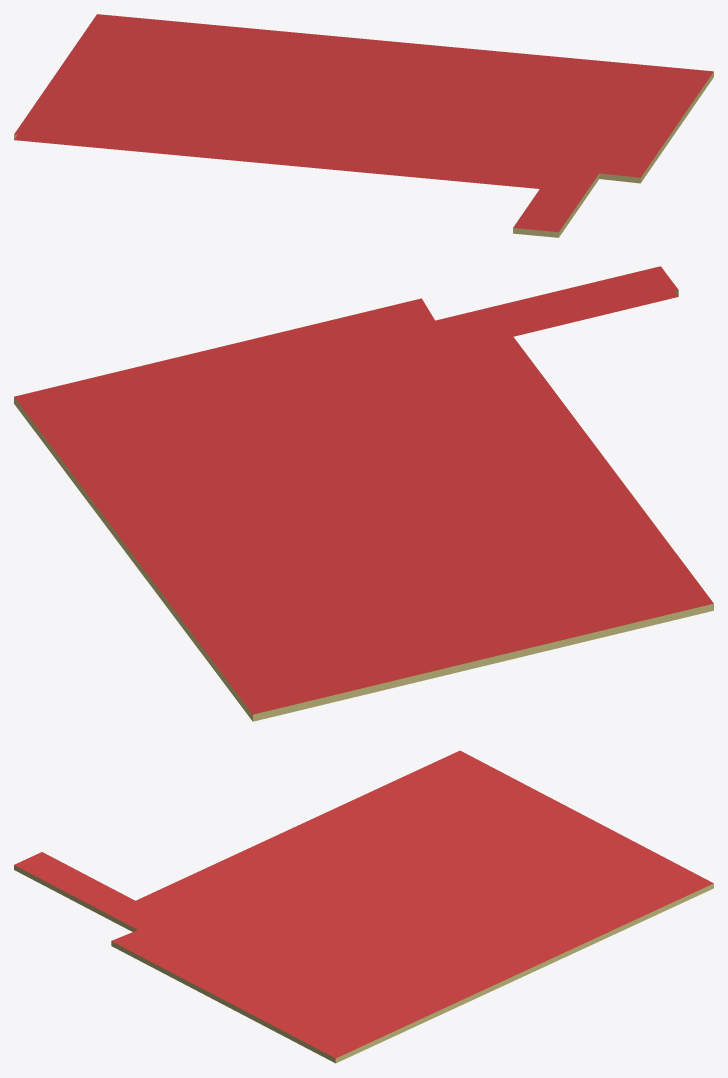
3 views of the same model, one above another, from view 1: azimuth 30°, elevation 25°; view 2: azimuth 150°, elevation 25°; view 3: azimuth 270°, elevation 25° (orthographic). The views are drawn at different scales.
Size of the model in its own units: 11.62 by 12.59 by 1.05.
